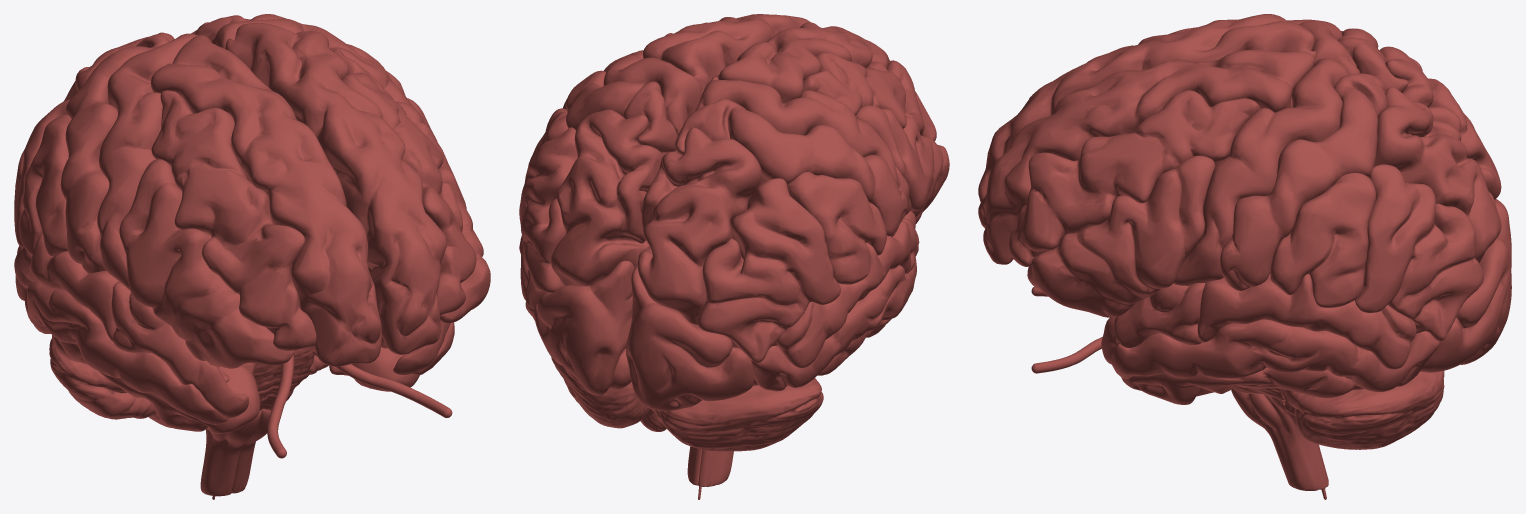
The model's file is nervous.glb.
3 renders of one model, left to right at view 1: azimuth 30°, elevation 25°; view 2: azimuth 150°, elevation 25°; view 3: azimuth 270°, elevation 25°, orthographic. The views are drawn at different scales.
Visible parts, largest first — view 1: FMA72653, FMA72654, FMA72655, FMA72701, FMA72661, FMA72665, FMA72685, FMA72656, FMA72800, FMA72667, FMA72804, FMA67944 (+12 smaller); view 2: FMA72669, BP50, BP49, FMA72975, FMA67944, FMA72665, FMA72976, FMA72653, FMA72667, FMA72661, FMA72670, FMA72654 (+9 smaller); view 3: FMA72654, FMA72656, FMA72702, FMA72670, FMA72686, FMA72666, FMA72662, FMA72653, FMA72668, BP49, FMA72805, FMA67944 (+8 smaller).
Boxes of the visible parts, x1,y1,x2,y2 form: FMA72653: (150,35,381,366); FMA72654: (225,22,446,354); FMA72655: (151,90,316,350); FMA72701: (119,159,294,368); FMA72661: (97,33,197,290); FMA72665: (60,32,174,273); FMA72685: (25,281,228,424); FMA72656: (332,49,476,315); FMA72800: (111,281,248,417); FMA72667: (19,114,71,256); FMA72804: (14,232,118,341); FMA67944: (49,338,328,427); FMA72669: (697,178,840,362); BP50: (637,127,763,324); BP49: (551,109,663,286); FMA72975: (626,265,754,411); FMA67944: (551,357,823,451); FMA72665: (675,99,907,236); FMA72976: (533,260,634,395); FMA72653: (711,22,890,103); FMA72667: (787,172,886,284); FMA72661: (695,80,911,215); FMA72670: (519,127,577,307); FMA72654: (643,14,810,95); FMA72654: (978,49,1315,264); FMA72656: (1009,90,1260,266); FMA72702: (1027,155,1215,317); FMA72670: (1355,164,1483,341); FMA72686: (1110,319,1439,391); FMA72666: (1220,73,1389,290); FMA72662: (1173,58,1348,285); FMA72653: (978,14,1315,202); FMA72668: (1270,173,1375,307); BP49: (1374,87,1501,262); FMA72805: (1197,273,1416,369); FMA67944: (1281,371,1444,449).
Bounding box in the file's own units: 0.1336 × 0.1623 × 0.1702.
